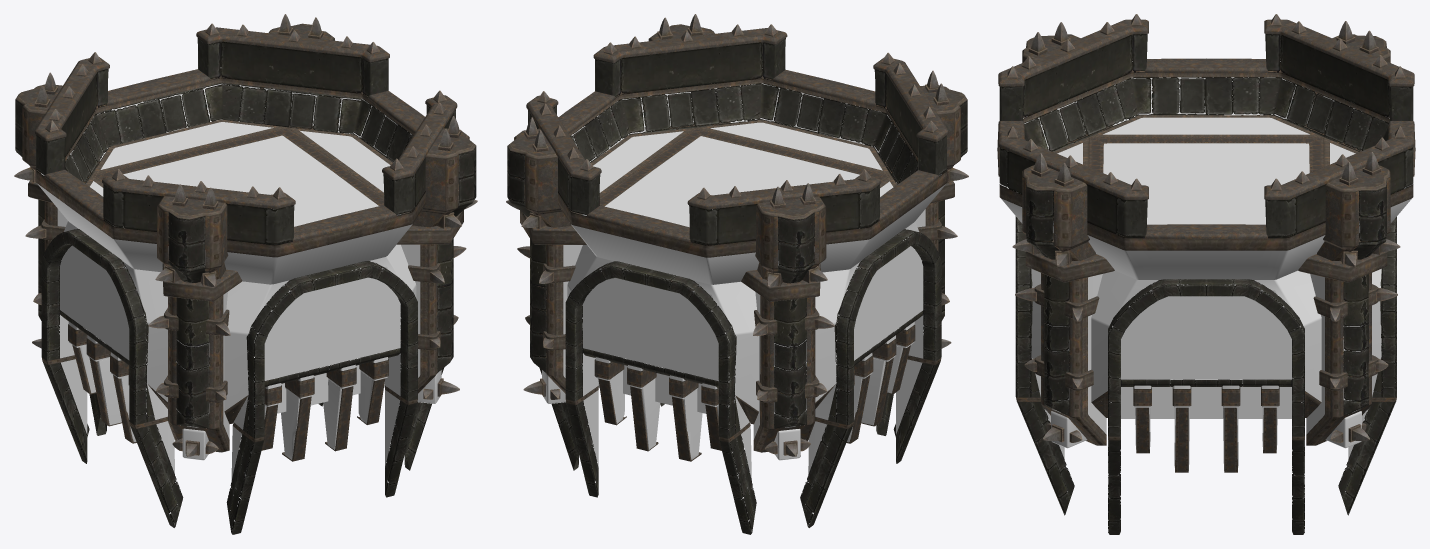
The picture shows the model from 3 angles, left to right: view 1: azimuth 30°, elevation 25°; view 2: azimuth 150°, elevation 25°; view 3: azimuth 270°, elevation 25°; orthographic projection. The views are drawn at different scales.
Parts seen in each view (by area): view 1: SM_Dowdun_Tower_Turret_01_LOD0; view 2: SM_Dowdun_Tower_Turret_01_LOD0; view 3: SM_Dowdun_Tower_Turret_01_LOD0.
Part boxes in pixels (box(x1,y1,x2,y2)): SM_Dowdun_Tower_Turret_01_LOD0: box(14, 14, 477, 534); SM_Dowdun_Tower_Turret_01_LOD0: box(506, 14, 968, 534); SM_Dowdun_Tower_Turret_01_LOD0: box(997, 14, 1415, 534).
Size of the model in its own units: 17.78 by 17.89 by 17.69.
Materials: 4 (3 with a texture image).
